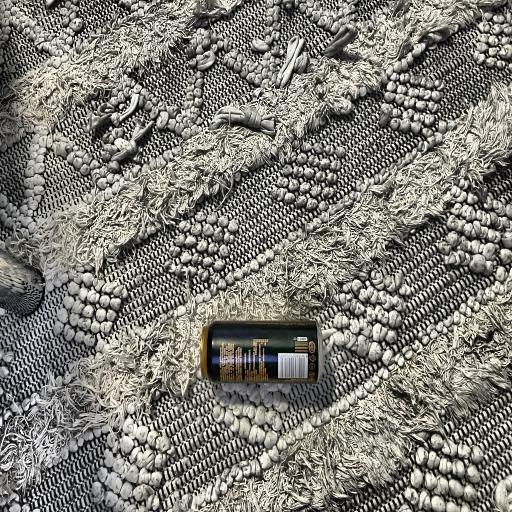karhu: (200, 315, 326, 390)
